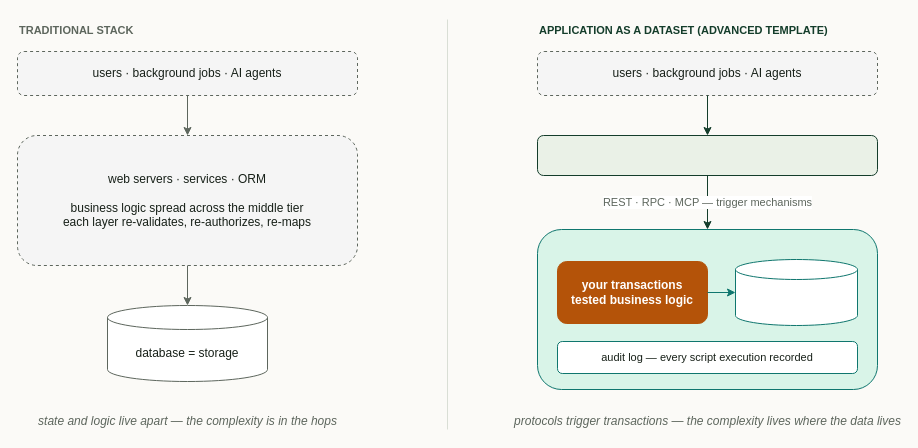
Some shapes in this 918 by 448 pixel diagram are drawn without their labels. Here are the shapes that lost their labels. From the top down, the box of each, then its label:
(536, 134, 878, 176): thin gateway — verifies identity, routes bytes
(536, 228, 878, 390): PostgreSQL — the application
(734, 258, 858, 326): the dataset
